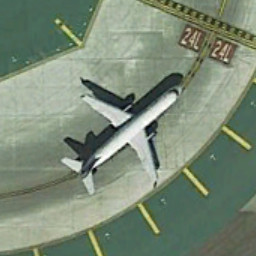Airplane: (45, 64, 193, 210)
